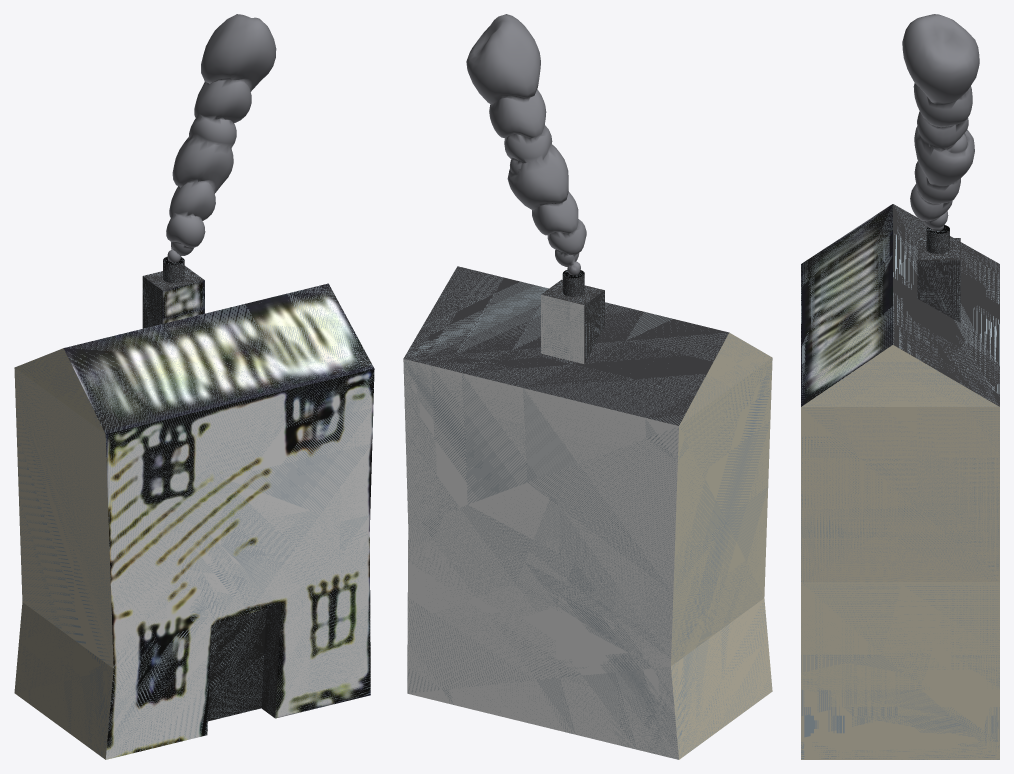
File: house.dae
The picture shows the model from 3 angles, left to right: view 1: azimuth 30°, elevation 25°; view 2: azimuth 150°, elevation 25°; view 3: azimuth 270°, elevation 25°; orthographic projection. The views are drawn at different scales.
Visible parts, largest first — view 1: SketchUp (×7), group_0; view 2: SketchUp (×5), group_0; view 3: SketchUp (×5), group_0.
Part boxes in pixels (x1,y1,x2,y2): SketchUp (×7): [14, 266, 374, 759]; group_0: [166, 14, 276, 262]; SketchUp (×5): [403, 266, 772, 759]; group_0: [466, 14, 586, 275]; SketchUp (×5): [801, 204, 999, 759]; group_0: [902, 14, 979, 231].
Bounding box in the file's own units: 17.57 × 10.33 × 40.63.
11 materials, 3 textured.
